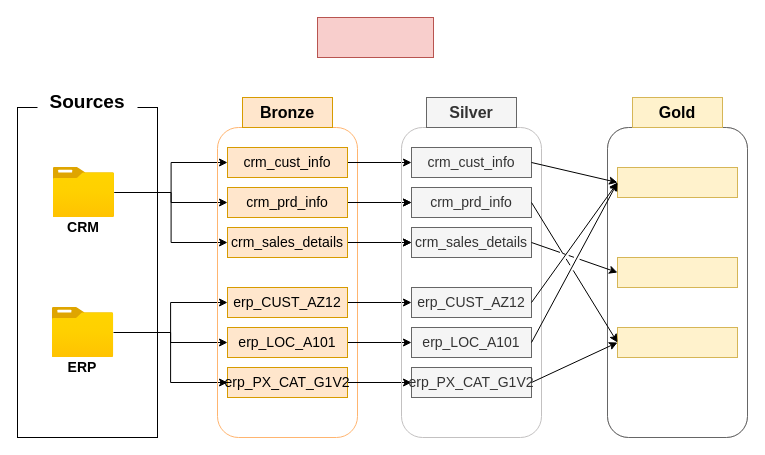
Some shapes in this 765 by 455 pixel diagram are drawn without their labels. The centre of each missing label's shape, as x and y in pixels:
Data Flow: point (375, 37)
dim_cusotmers: point (677, 182)
dim_products: point (677, 342)
fact_sales: point (677, 272)
